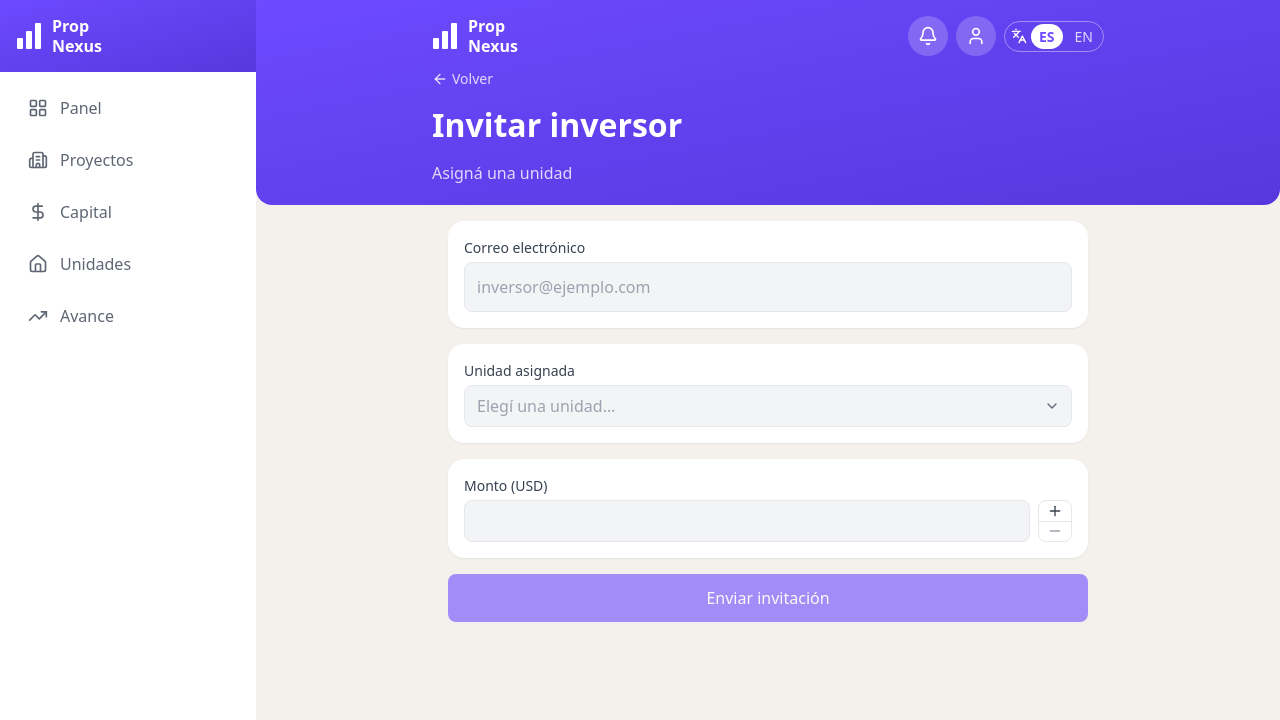
Test case: /developer/project/$projectId/invite › el botón se habilita solo con las cinco condiciones › un monto en cero (precio 0 de la unidad) no habilita
The width and height of the screenshot is (1280, 720).
Type "ana@example.com" into the field labelled "Correo electrónico" at (768, 287), box [464,262,1072,312]
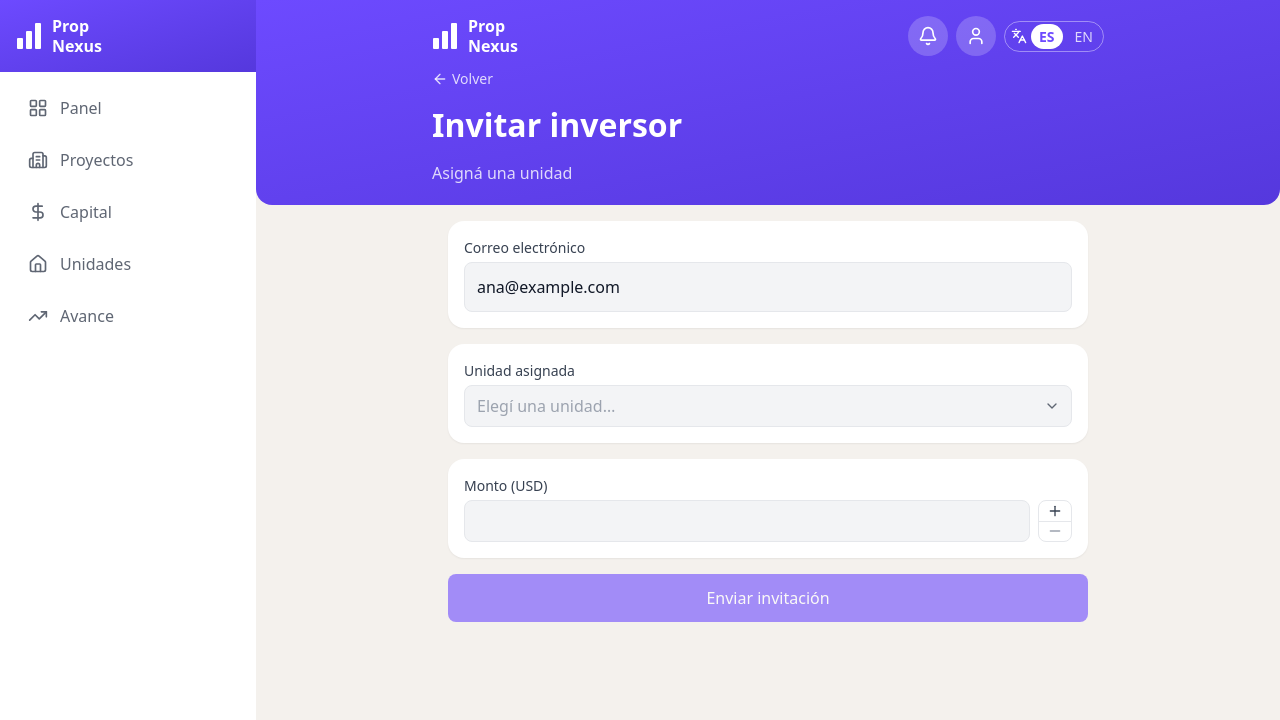
Select "Unidad u4" in the dropdown labelled "Unidad asignada" at (768, 406), box [464,385,1072,427]
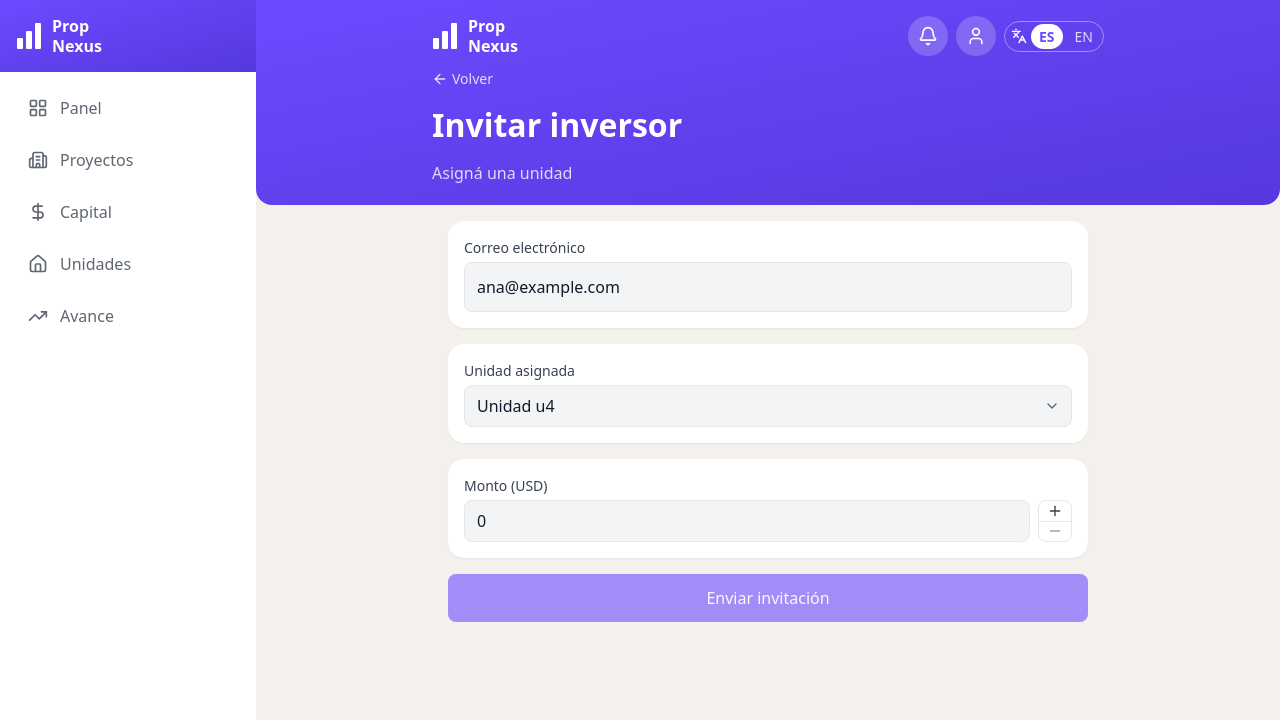
Check: the button "Enviar invitación" is disabled, box [448,574,1088,622]
Check: the number field holds "0", box [464,500,1030,542]
